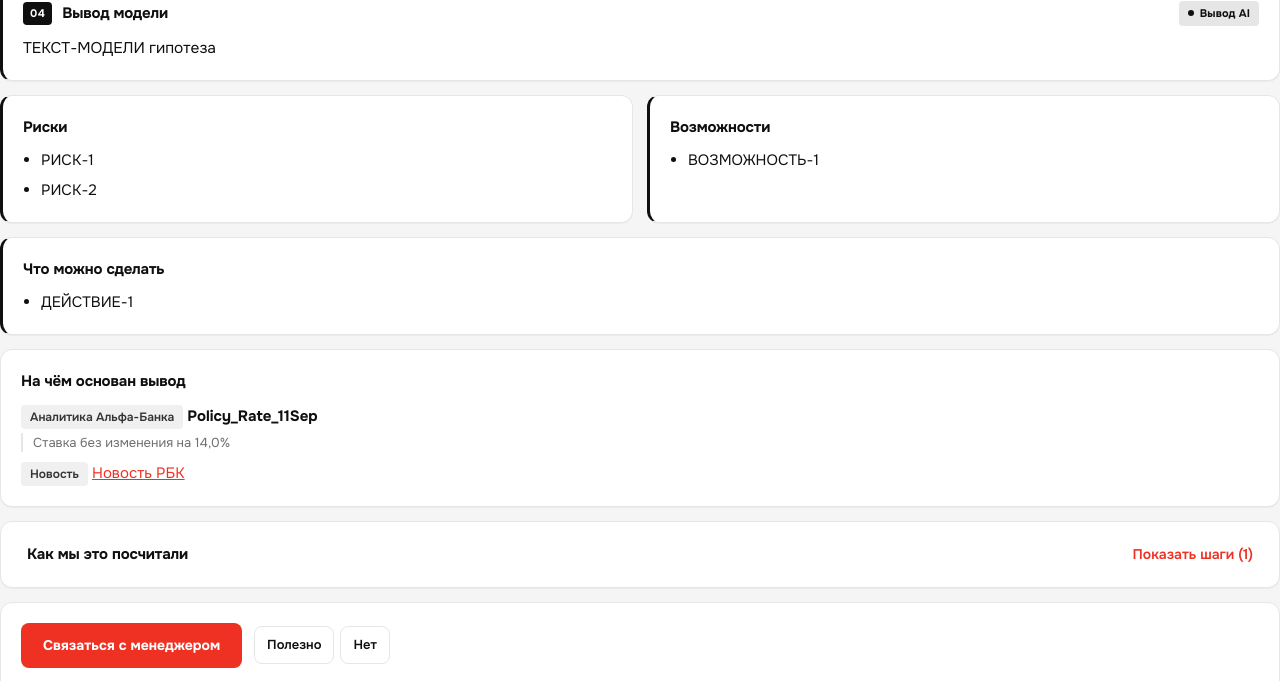
Scenario: InsightView: trace › shows unknown actions as-is instead of hiding them
(page scrolled)
Click the text "Показать шаги (1)" at (1193, 554), box 1132,544 -> 1253,565
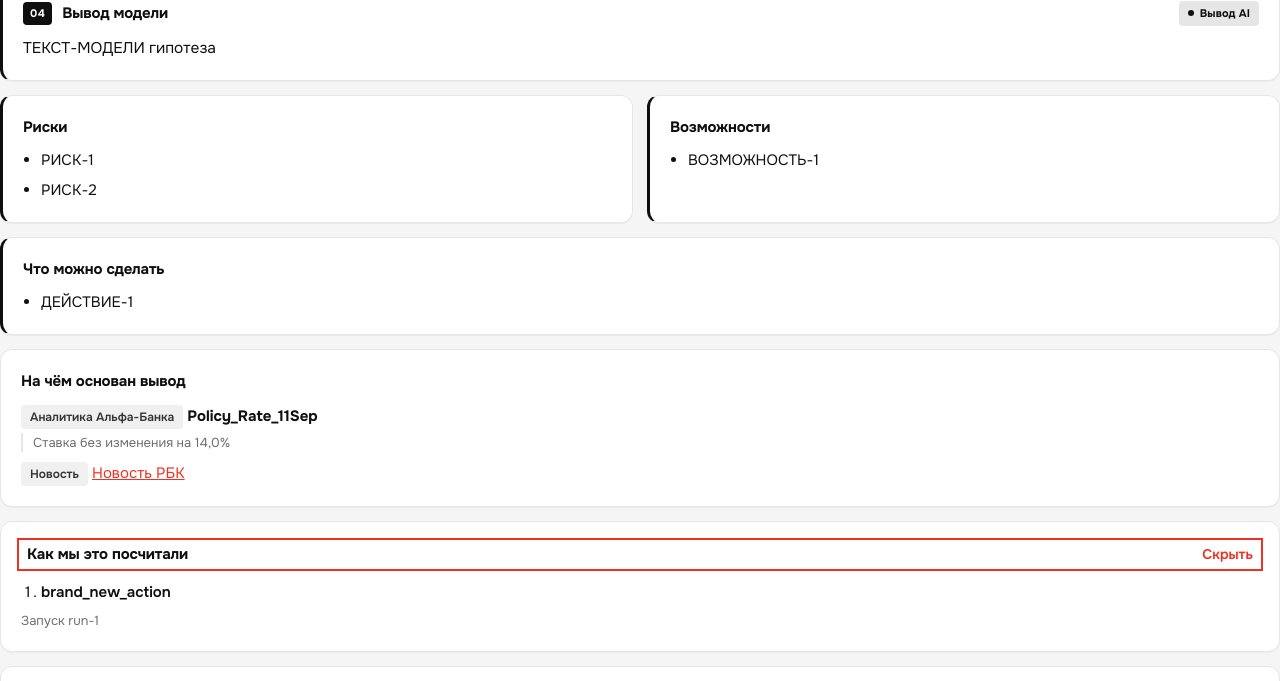
Expected: the text "brand_new_action" is shown, 41,582 -> 171,602
